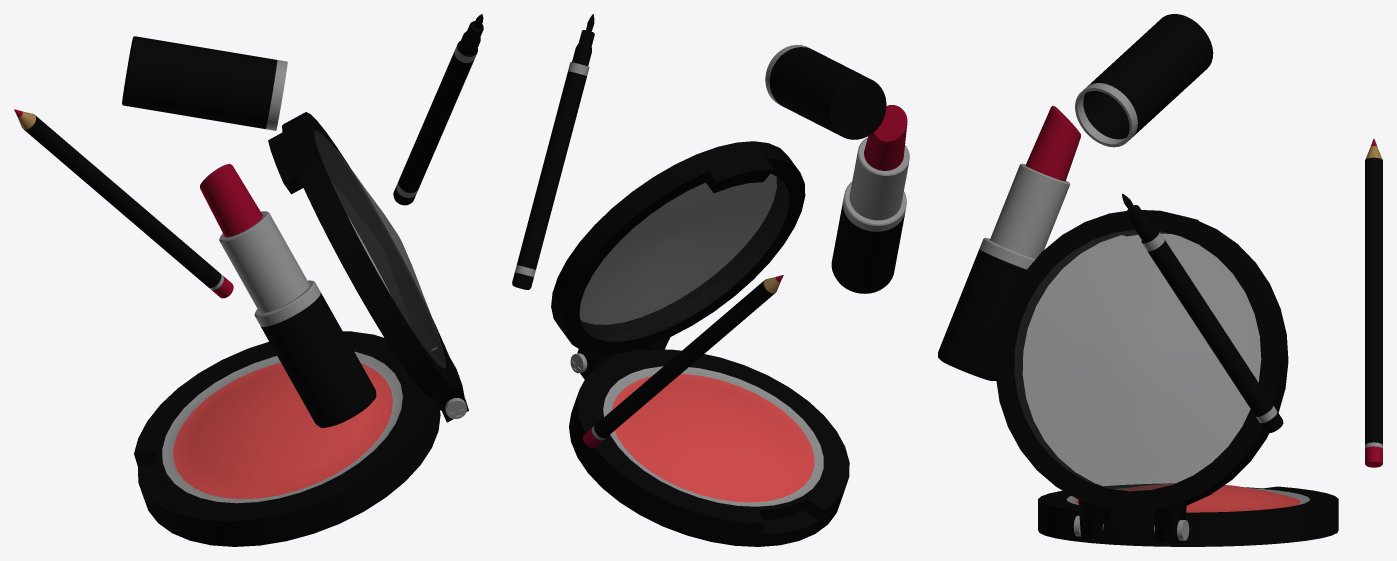
The model's file is Makeup.fbx.
The picture shows the model from 3 angles, left to right: view 1: azimuth 30°, elevation 25°; view 2: azimuth 150°, elevation 25°; view 3: azimuth 270°, elevation 25°; orthographic projection. The views are drawn at different scales.
Visible parts, largest first — view 1: pCylinder13; view 2: pCylinder13; view 3: pCylinder13.
Part boxes in pixels (x1,y1,x2,y2): pCylinder13: [14, 14, 483, 546]; pCylinder13: [512, 14, 909, 546]; pCylinder13: [938, 14, 1382, 546].
Bounding box in the file's own units: 7.55 × 10.35 × 8.63.
